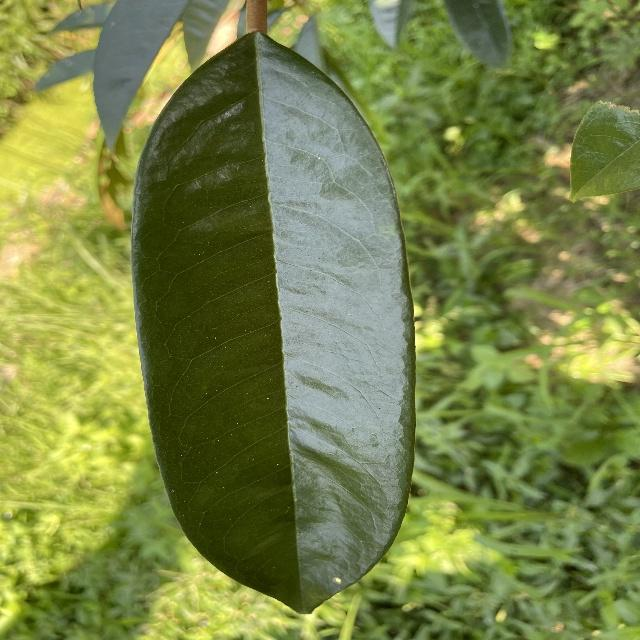No Disease: (122, 21, 425, 625)
